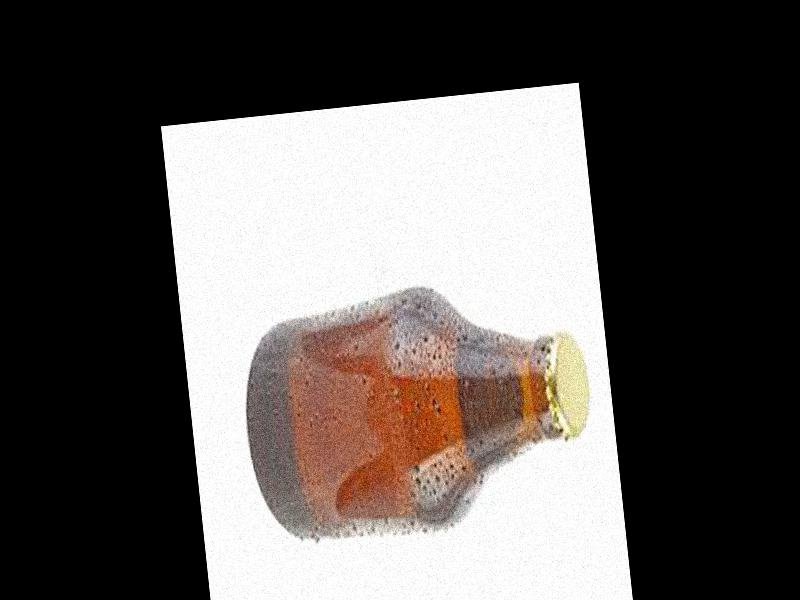Beer: (238, 288, 601, 543)
